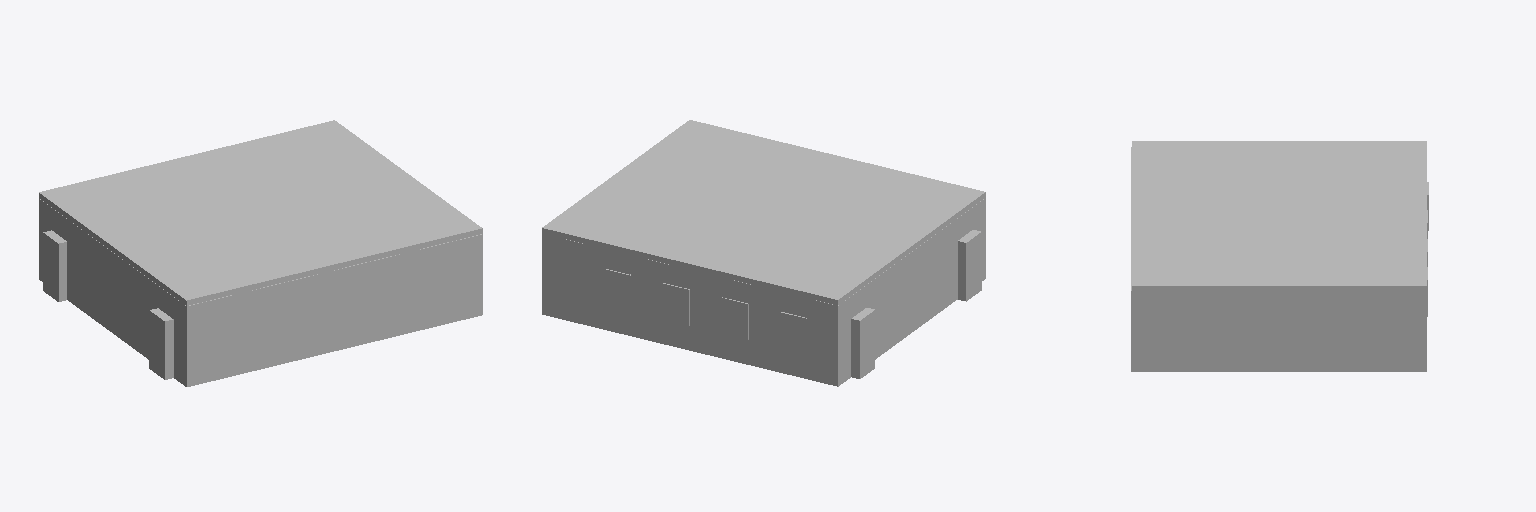
File: kamertje.obj
3 renders of one model, left to right at view 1: azimuth 30°, elevation 25°; view 2: azimuth 150°, elevation 25°; view 3: azimuth 270°, elevation 25°, orthographic.
Parts seen in each view (by area): view 1: Cube_Cube.051, Room, CTRL_Hole.004, CTRL_Hole.005_CTRL_Hole.006; view 2: Cube_Cube.051, Room, CTRL_Hole.004, CTRL_Hole.005_CTRL_Hole.006, CTRL_Hole.001, CTRL_Hole_CTRL_Hole.001, CTRL_Hole.003, CTRL_Hole.002; view 3: Cube_Cube.051, Room.
Boxes of the visible parts, <box> form: Cube_Cube.051: <box>39,120,482,305</box>; Room: <box>39,199,482,386</box>; CTRL_Hole.004: <box>149,308,173,379</box>; CTRL_Hole.005_CTRL_Hole.006: <box>43,230,66,301</box>; Cube_Cube.051: <box>542,120,985,305</box>; Room: <box>542,198,985,386</box>; CTRL_Hole.004: <box>958,230,981,301</box>; CTRL_Hole.005_CTRL_Hole.006: <box>851,308,874,378</box>; CTRL_Hole.001: <box>721,297,748,339</box>; CTRL_Hole_CTRL_Hole.001: <box>780,312,806,354</box>; CTRL_Hole.003: <box>604,269,630,311</box>; CTRL_Hole.002: <box>663,283,689,325</box>; Cube_Cube.051: <box>1132,141,1426,290</box>; Room: <box>1131,147,1426,371</box>.
Size of the model in its own units: 11.43 by 3.21 by 9.66.